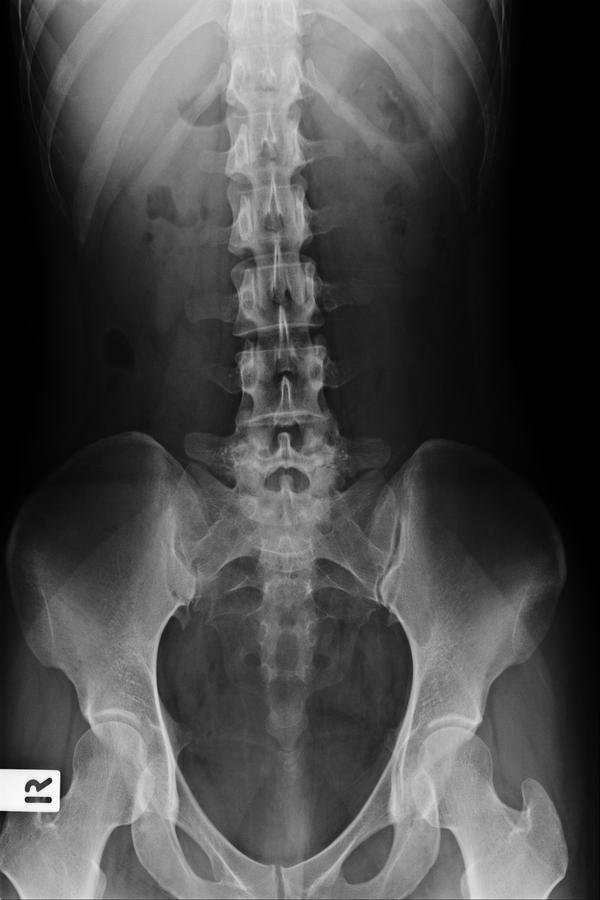lumbar scoliosis: (214, 10, 343, 548)
